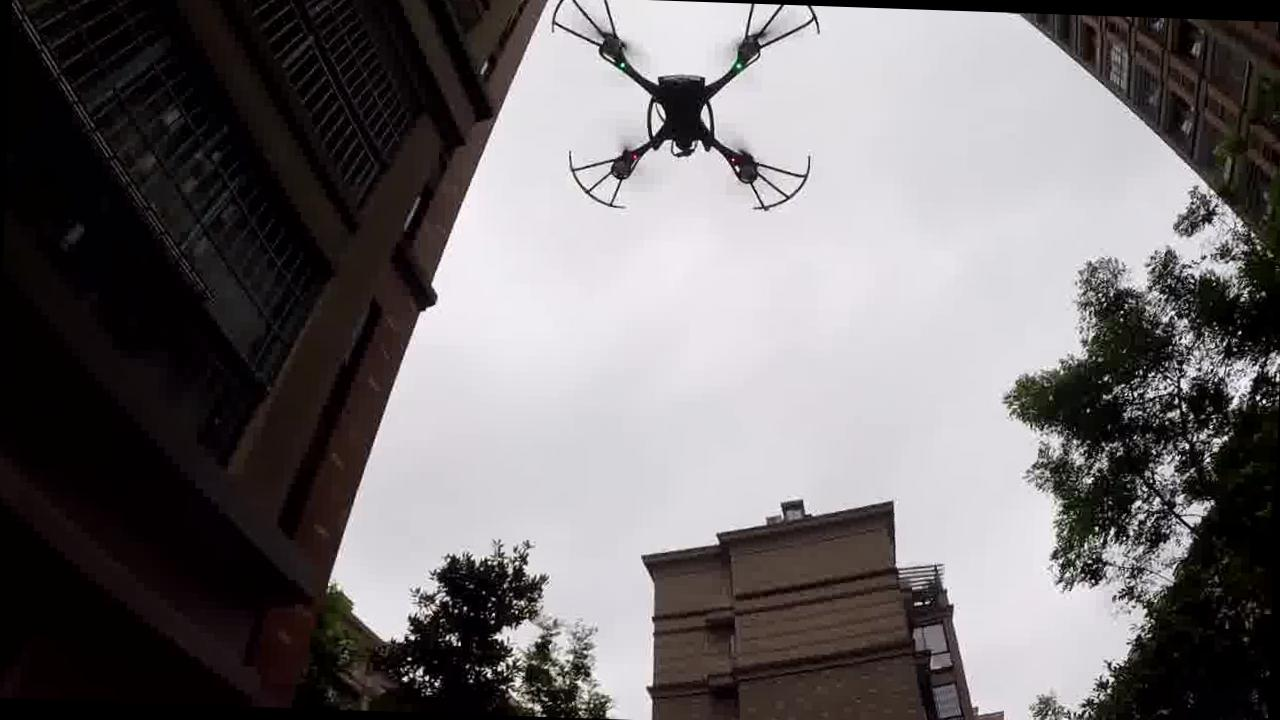drone: (536, 0, 829, 244)
